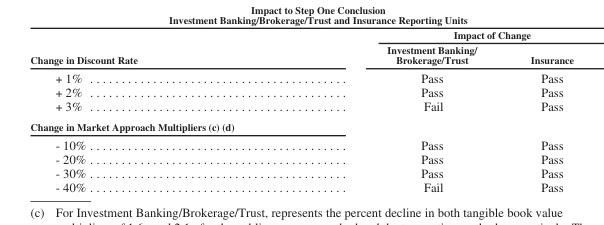table: (29, 28, 573, 193)
table column: (261, 28, 503, 193), (29, 28, 261, 193), (503, 28, 573, 193)
table column header: (29, 28, 573, 116)
table projected row header: (29, 116, 573, 135)
table row: (29, 42, 573, 116), (29, 116, 573, 135), (29, 135, 573, 151), (29, 28, 573, 42), (29, 151, 573, 165), (29, 165, 573, 179), (29, 179, 573, 193)
table spanning cell: (29, 28, 261, 116), (261, 28, 573, 42)
